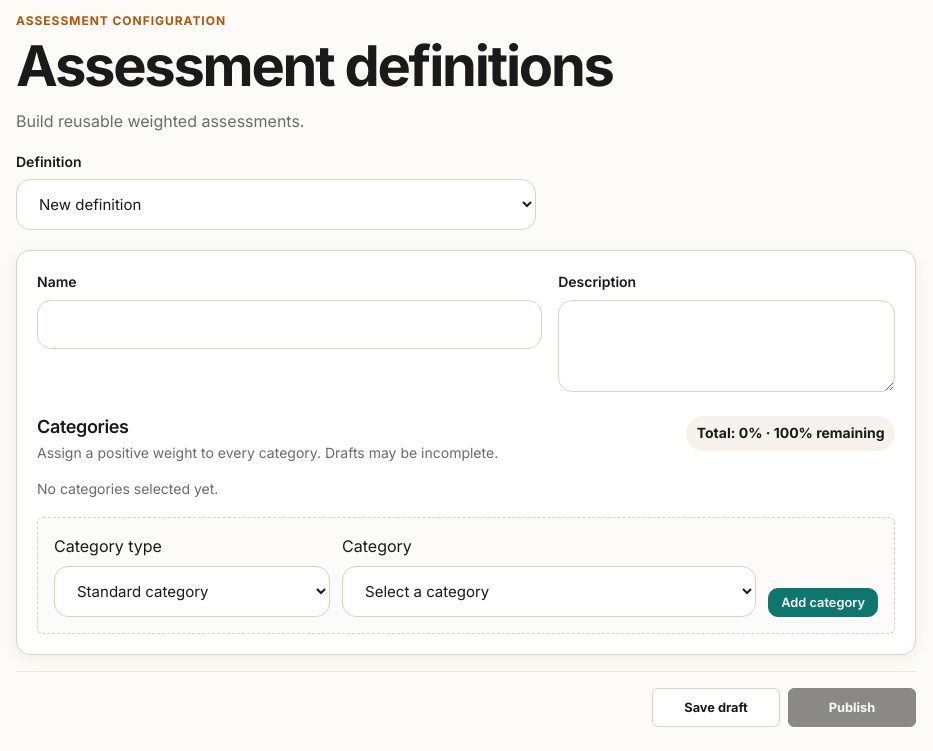
Test: AssessmentDefinitions › rejects an empty custom category name
The width and height of the screenshot is (933, 751).
Select "Custom category" in the dropdown labelled "Category type" at (192, 591), box 54,566 -> 330,616
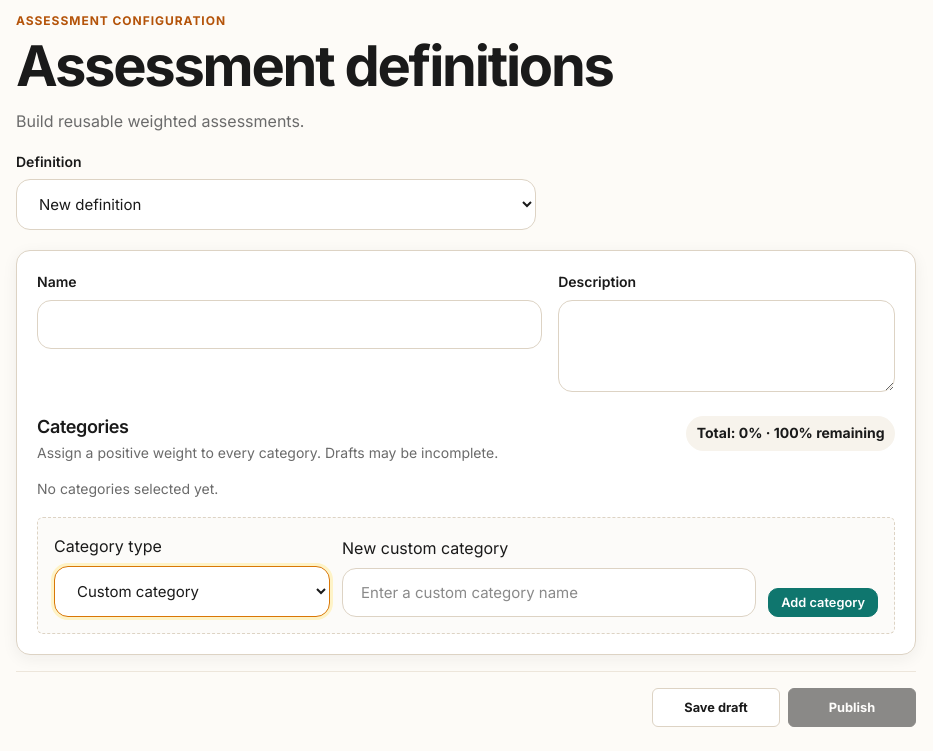
Click the button "Add category" at (823, 602), box 768,588 -> 878,616
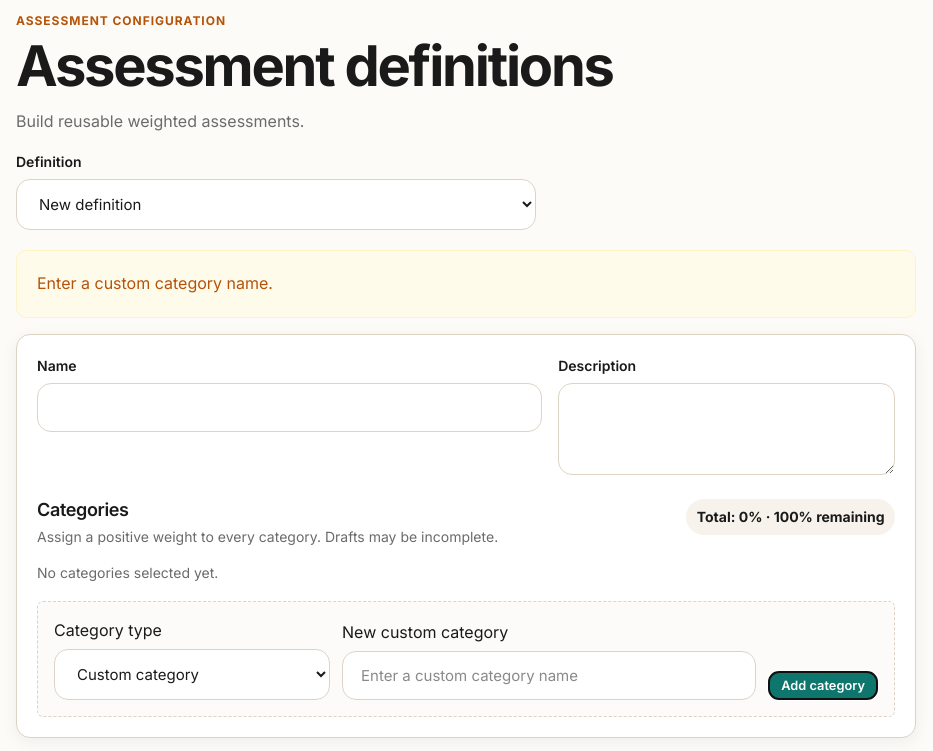
Check: the message reads "Enter a custom category name.", box 37,273 -> 273,293
